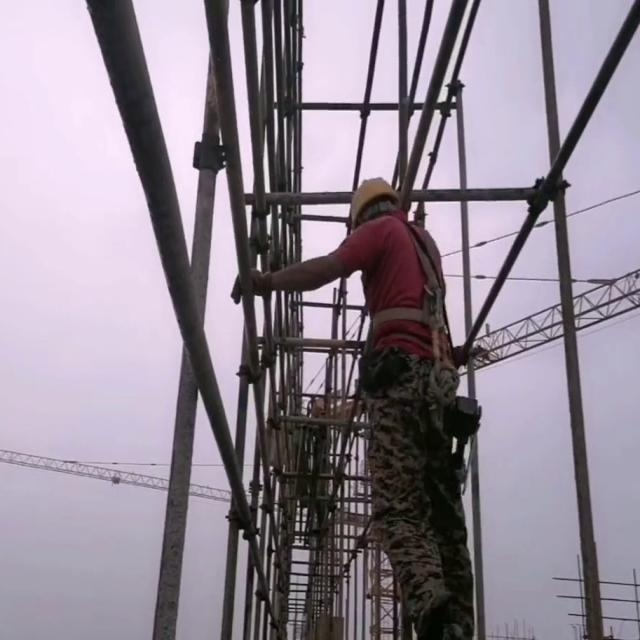Arnes_seguridad: (354, 220, 454, 376)
